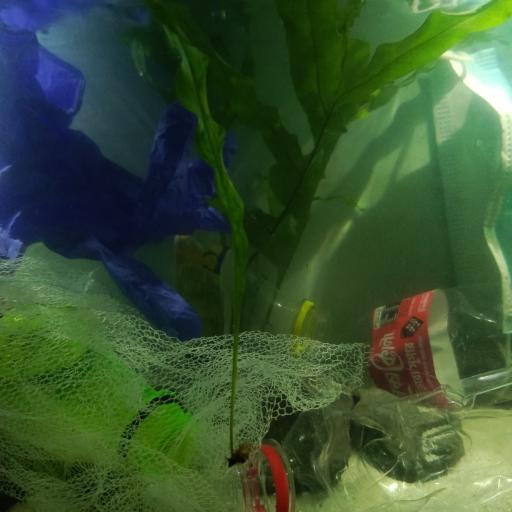glove: (2, 27, 222, 347)
mask: (427, 48, 512, 336)
net: (1, 254, 373, 512)
plastic_bottle: (237, 362, 512, 512), (0, 288, 198, 476), (128, 231, 332, 351), (324, 281, 512, 407)
